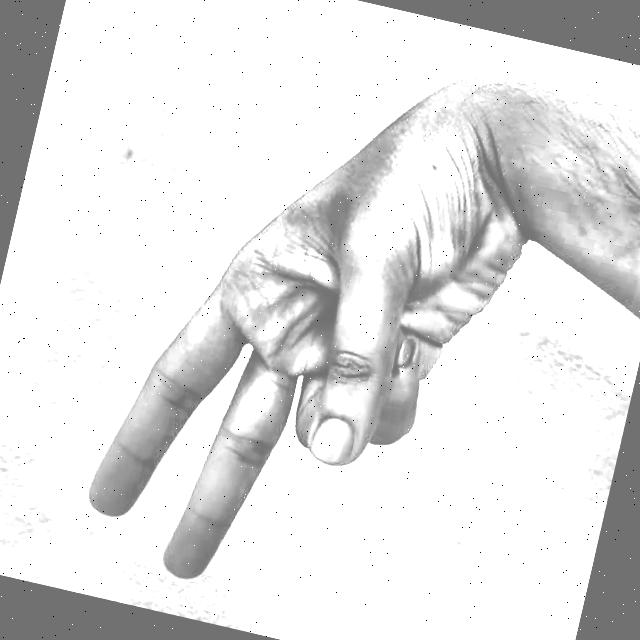Pa: (56, 8, 575, 640)
